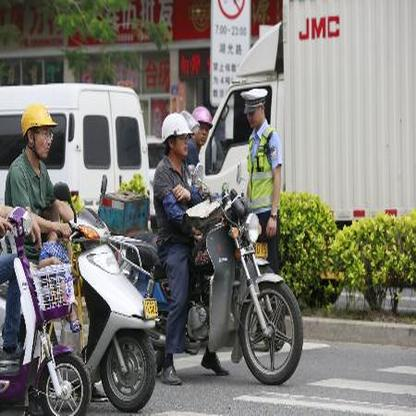target: (125, 111, 308, 389), (5, 102, 158, 414)
